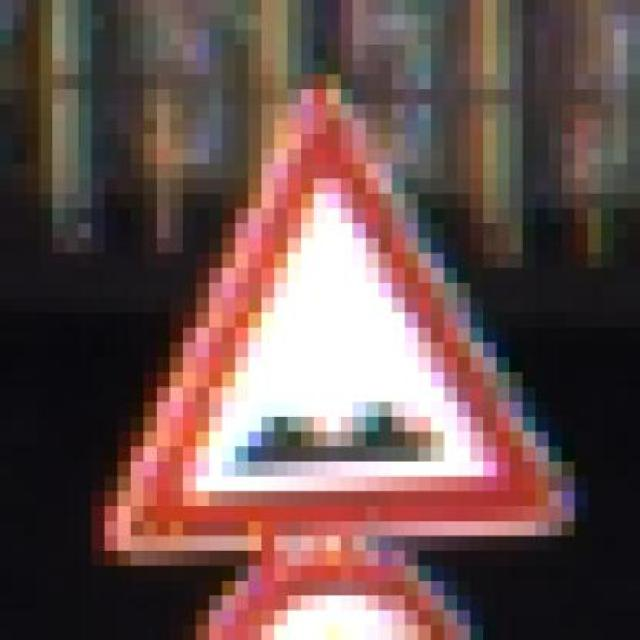Uneven Road: (103, 59, 574, 566)
